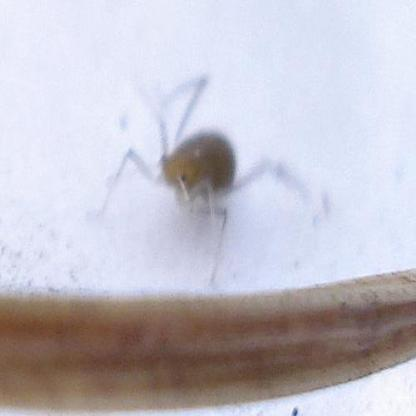aphid: (105, 74, 321, 262)
